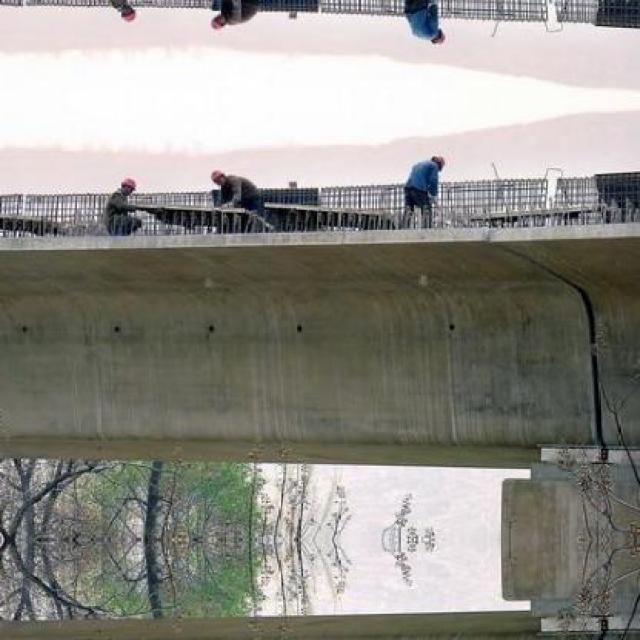helmet: (205, 164, 229, 186), (205, 14, 229, 35), (427, 29, 450, 48), (427, 152, 450, 170), (117, 174, 135, 194), (117, 6, 135, 26)
